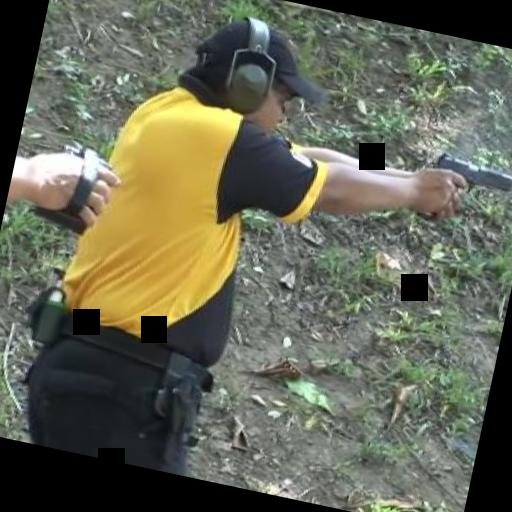Handgun: (413, 146, 512, 230)
